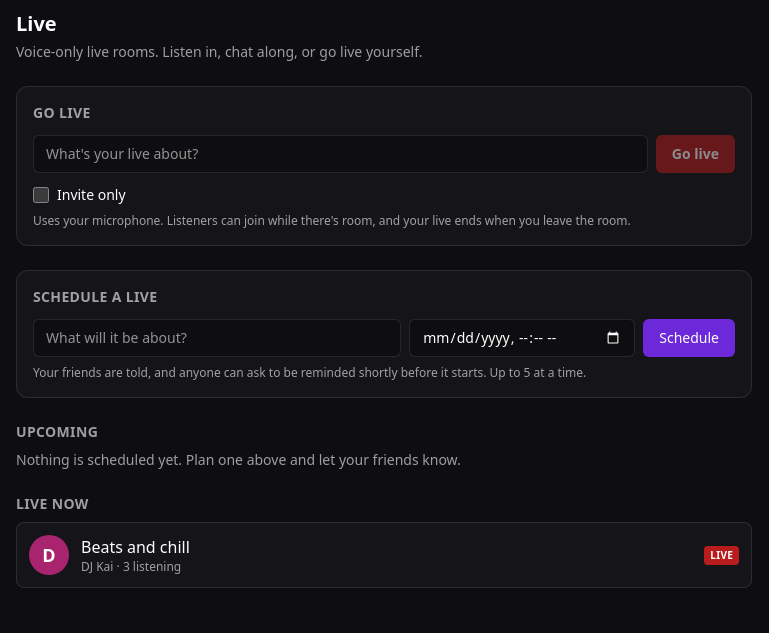
LivePage: going live › tells people on a browser without live audio, without asking for the microphone
This screenshot has width=769, height=633.
Type "My first live" into the field named "Live title".
click(340, 154); type("My first live")  # box x1=33 y1=135 x2=648 y2=173
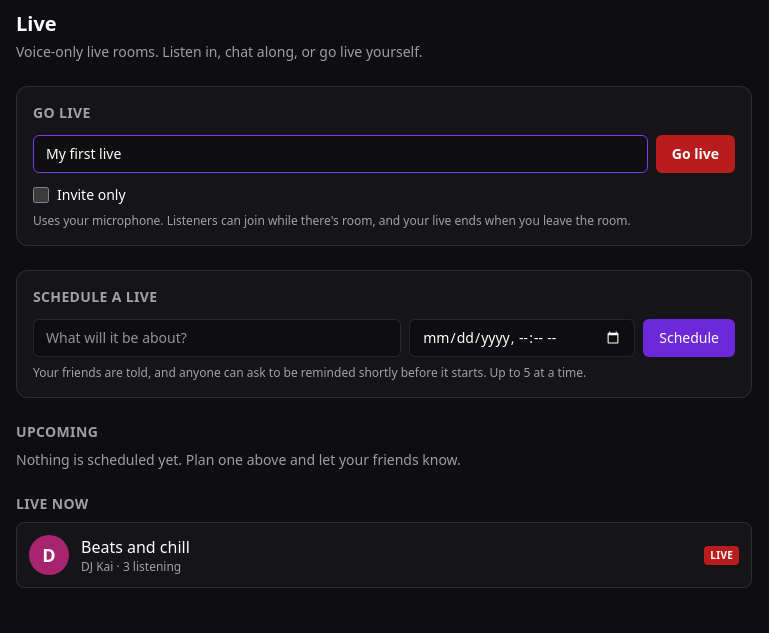
Click the button "Go live".
click(695, 154)  # box x1=656 y1=135 x2=735 y2=173
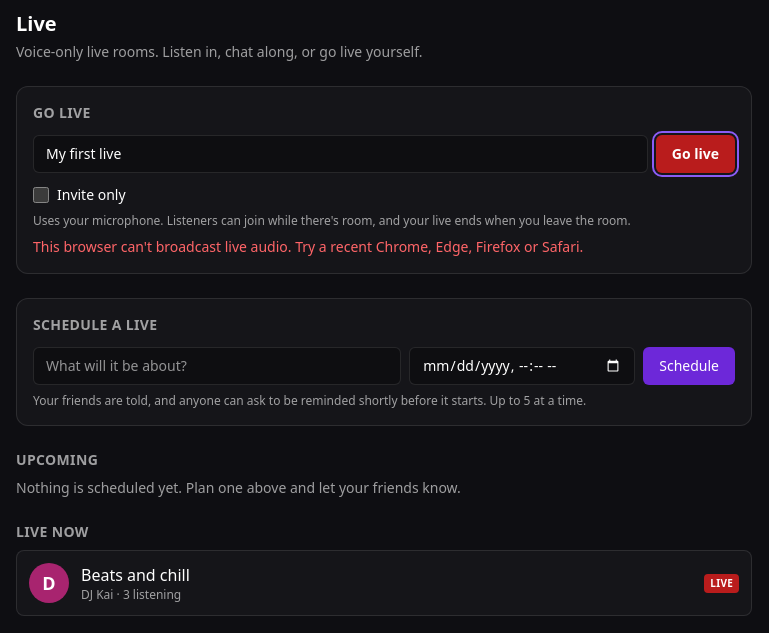
Now the message shows "can't broadcast live audio", box x1=33 y1=237 x2=583 y2=256
